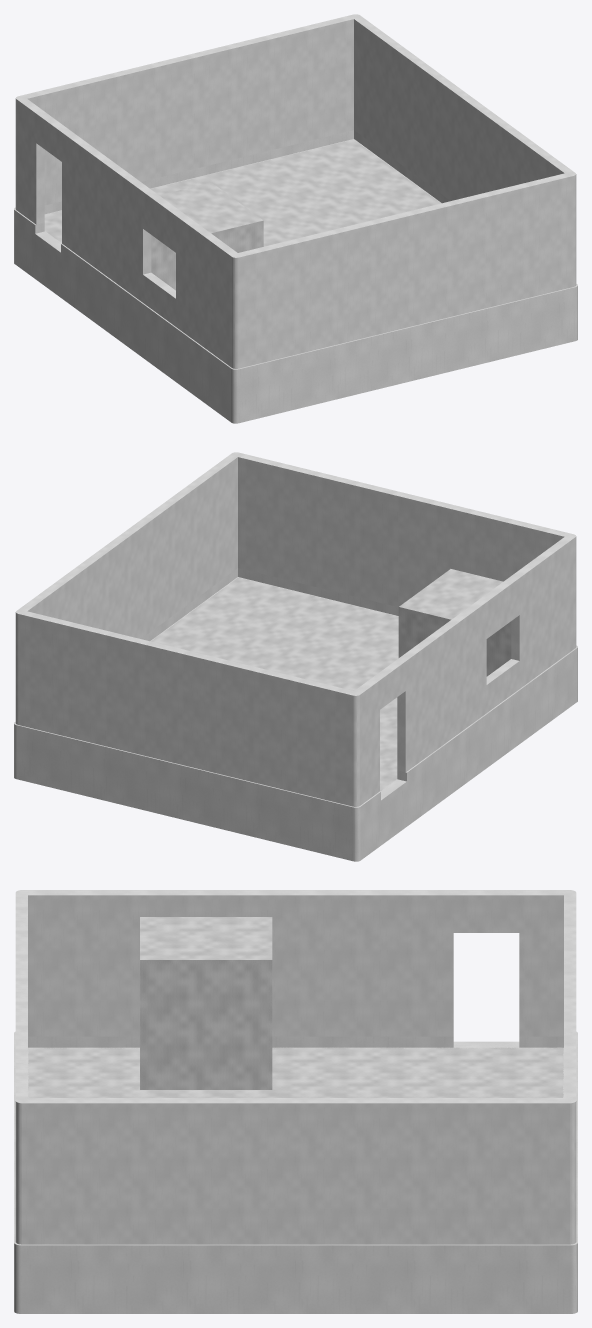
File: SM_Homes_H03_Shell.glb
The picture shows the model from 3 angles, top to bottom: view 1: azimuth 30°, elevation 25°; view 2: azimuth 150°, elevation 25°; view 3: azimuth 270°, elevation 25°; orthographic projection. The views are drawn at different scales.
Parts seen in each view (by area): view 1: SM_Homes_H03_Shell; view 2: SM_Homes_H03_Shell; view 3: SM_Homes_H03_Shell.
Boxes of the visible parts, left/top/right/bottom form: SM_Homes_H03_Shell: left=14, top=14, right=577, bottom=423; SM_Homes_H03_Shell: left=14, top=452, right=577, bottom=861; SM_Homes_H03_Shell: left=14, top=890, right=577, bottom=1313.
Bounding box in the file's own units: 9.06 × 4.13 × 10.06.
Materials: 3 (3 with a texture image).
